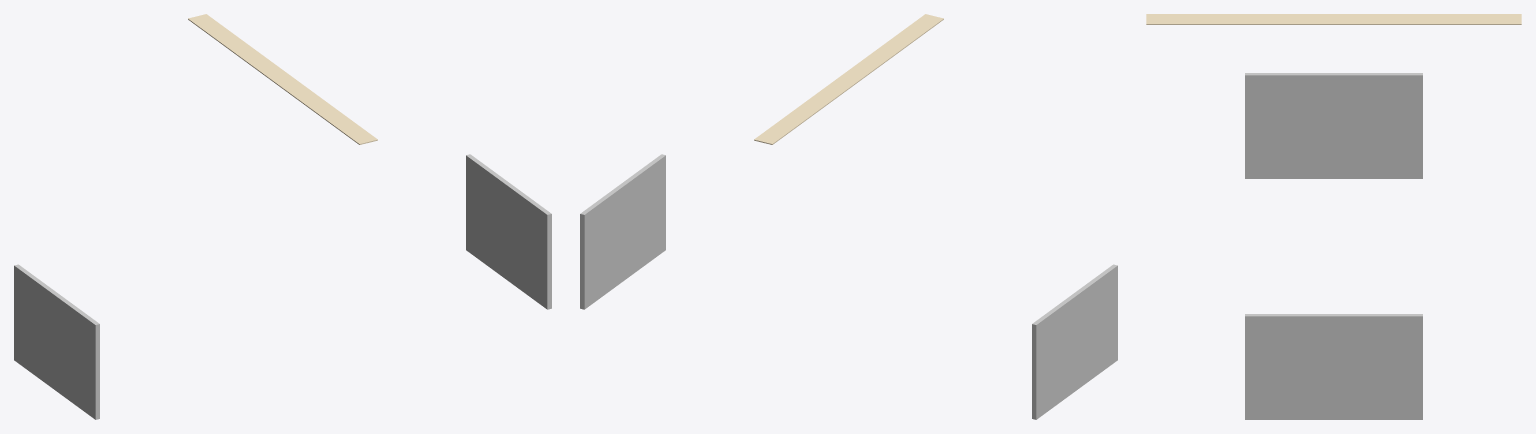
The model's file is habWindow_steel_glass.glb.
3 views of the same model, side by side, from view 1: azimuth 30°, elevation 25°; view 2: azimuth 150°, elevation 25°; view 3: azimuth 270°, elevation 25° (orthographic). The views are drawn at different scales.
Parts seen in each view (by area): view 1: habWindow_steel_glass; view 2: habWindow_steel_glass; view 3: habWindow_steel_glass.
Part boxes in pixels (x1,y1,x2,y2): habWindow_steel_glass: (14,14,551,419); habWindow_steel_glass: (580,14,1117,419); habWindow_steel_glass: (1146,14,1521,419).
Bounding box in the file's own units: 2.46 × 1.31 × 1.6.
